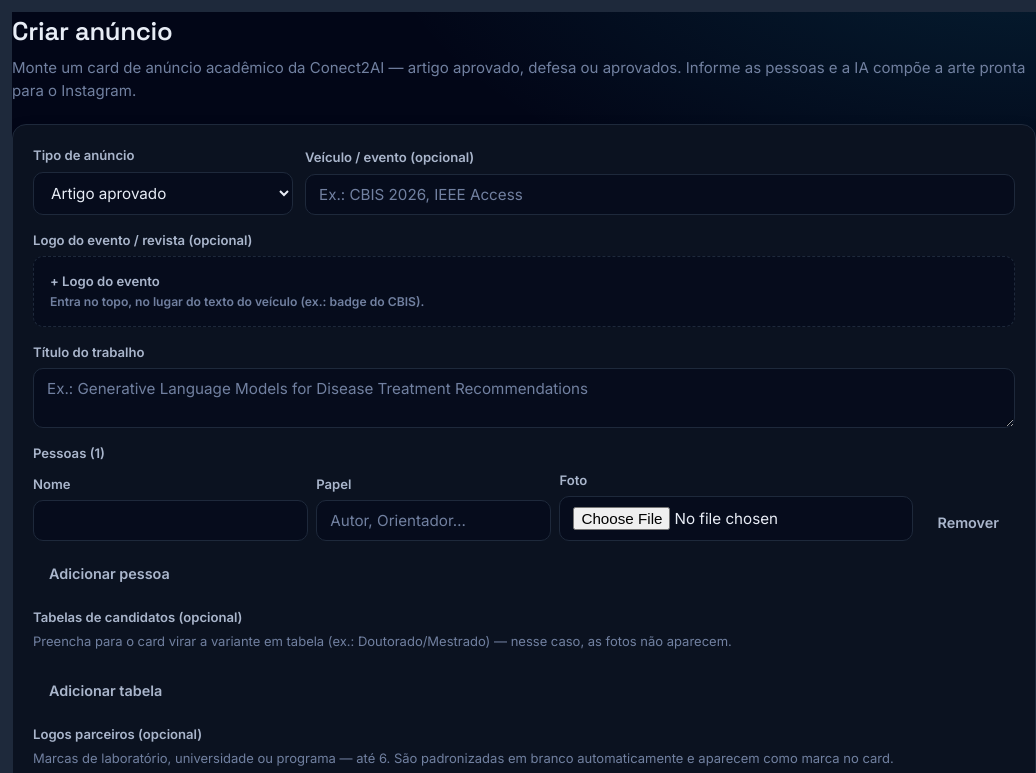
Test: PaginaAnuncio › mostra os campos de agenda apenas para defesa
Expected: the field labelled "Dia" is not shown
Select "Defesa (mestrado/doutorado)" in the dropdown labelled "Tipo de anúncio" at {"x": 163, "y": 193}, box [33,172,293,214]
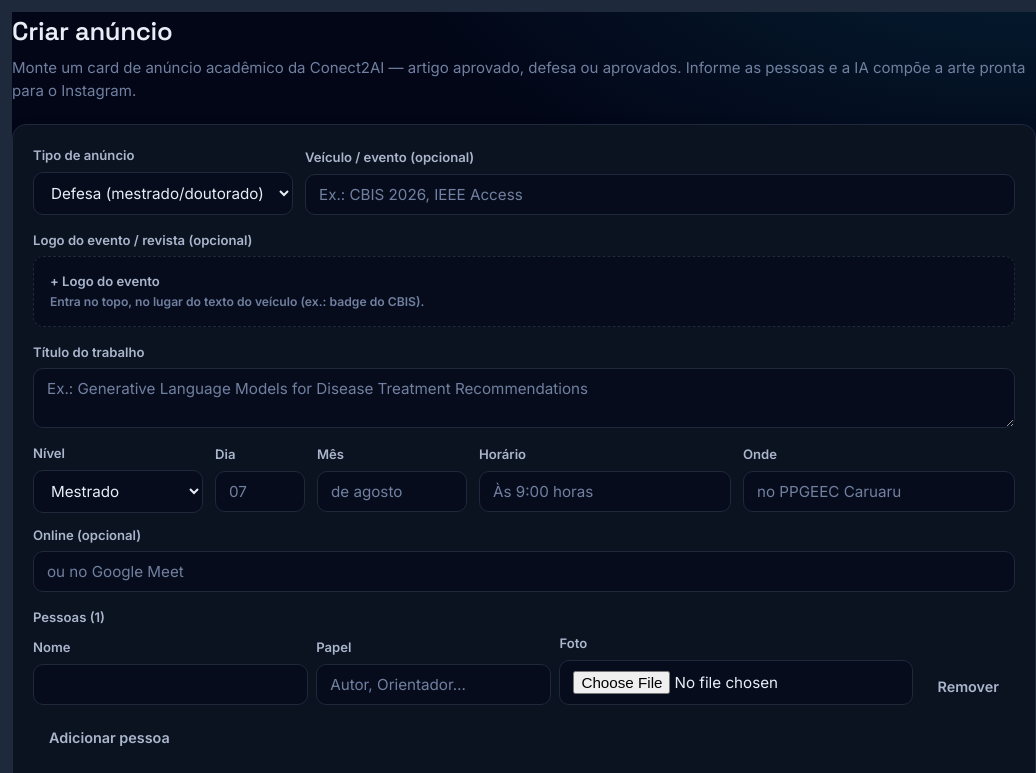
Now the field labelled "Dia" is shown, box [215,471,305,512]
Now the field labelled "Horário" is shown, box [479,471,731,512]
